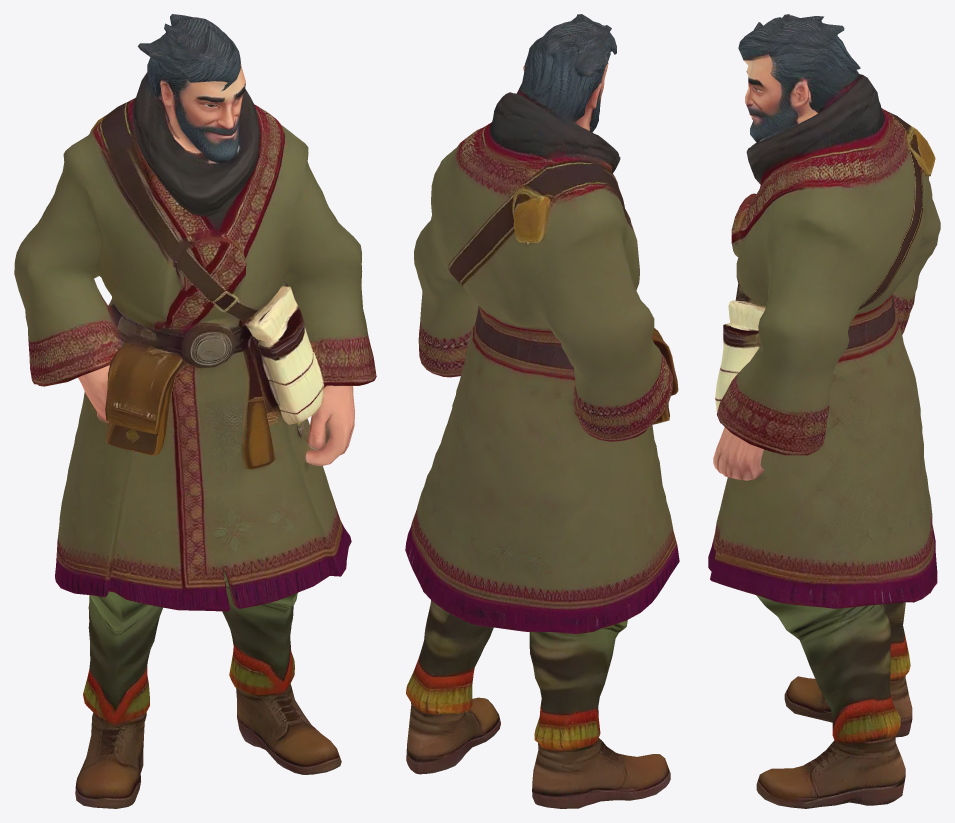
Rendered from mira_veyr.glb.
3 views of the same model, side by side, from view 1: azimuth 30°, elevation 25°; view 2: azimuth 150°, elevation 25°; view 3: azimuth 270°, elevation 25° (orthographic). The views are drawn at different scales.
Bounding box in the file's own units: 0.7474 × 1.91 × 0.548.
1 material, 1 textured.
